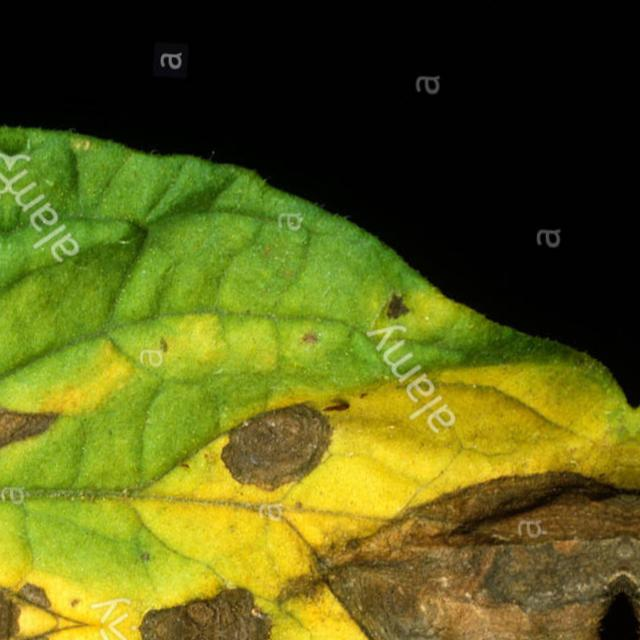Tomato Early blight leaf: (0, 151, 640, 640)
